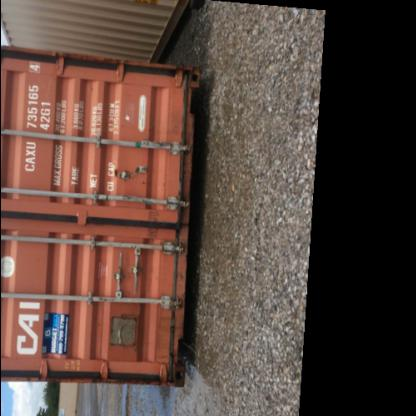Damage: (168, 69, 199, 225), (162, 226, 186, 386), (138, 203, 162, 243)
